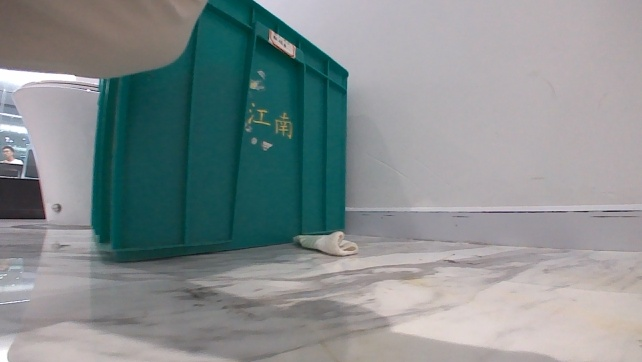socks: (290, 228, 360, 260)
toilet: (9, 75, 103, 225)
